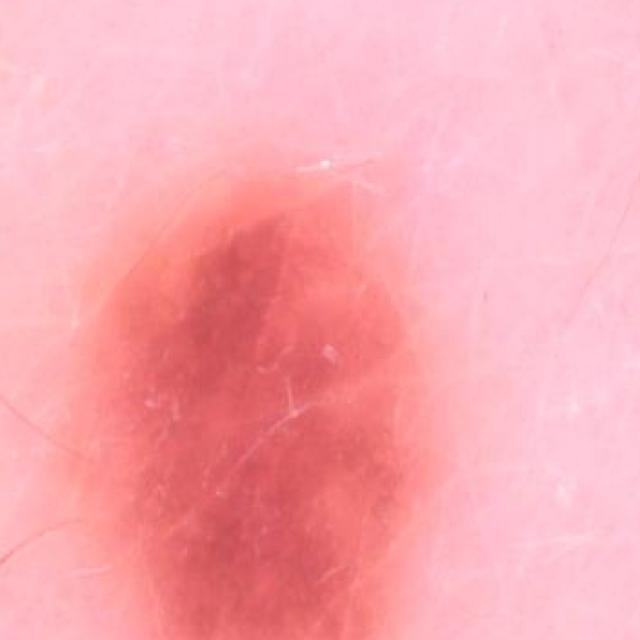NV: (45, 161, 453, 640)
